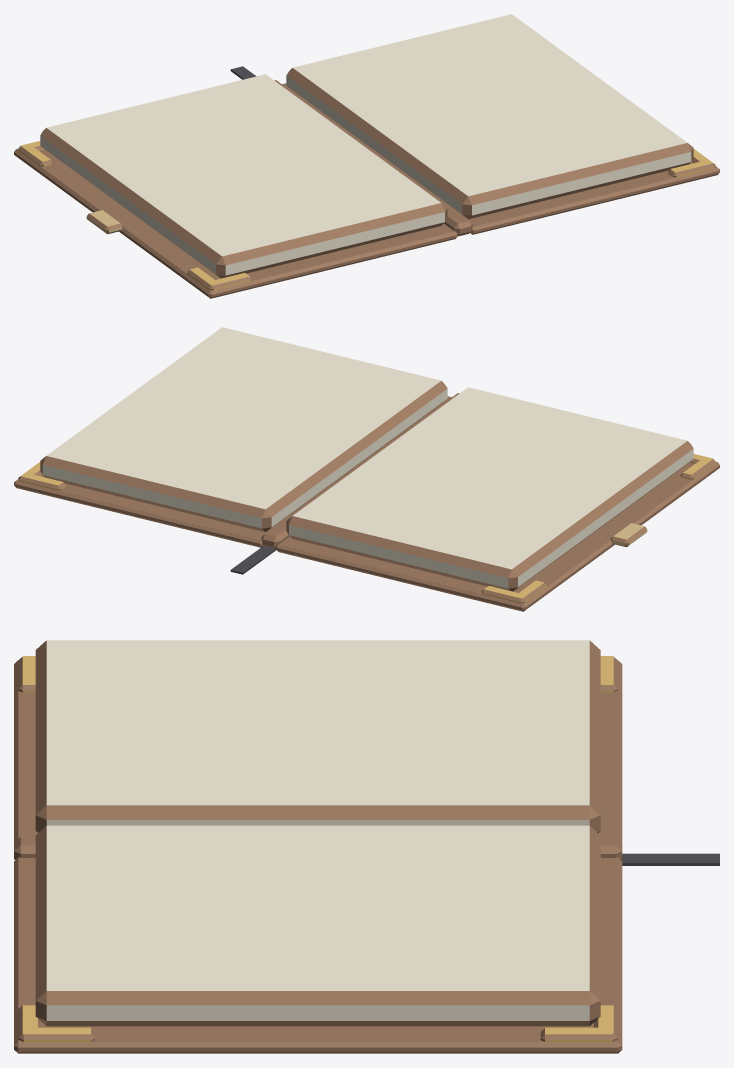
Rendered from Book_Manual.fbx.
3 views of the same model, one above another, from view 1: azimuth 30°, elevation 25°; view 2: azimuth 150°, elevation 25°; view 3: azimuth 270°, elevation 25° (orthographic). The views are drawn at different scales.
Visible parts, largest first — view 1: Book_Manual; view 2: Book_Manual; view 3: Book_Manual.
Part boxes in pixels (x1,y1,x2,y2): Book_Manual: (14,14,719,298); Book_Manual: (14,327,719,611); Book_Manual: (14,640,719,1053).
Bounding box in the file's own units: 0.865 × 0.048 × 0.65.
